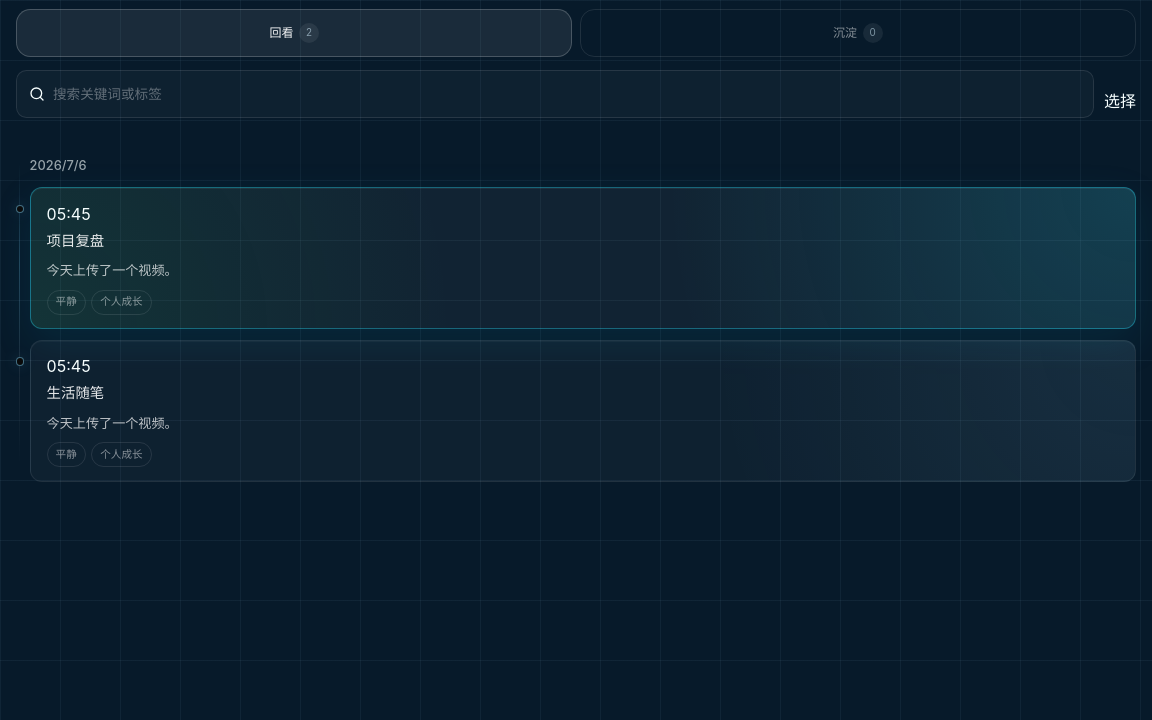
Test: PastRepository › supports bulk deleting the current search result and explains retained understanding
Type "项目" into the search field named "搜索记录" at (567, 94), box [53,84,1081,105]
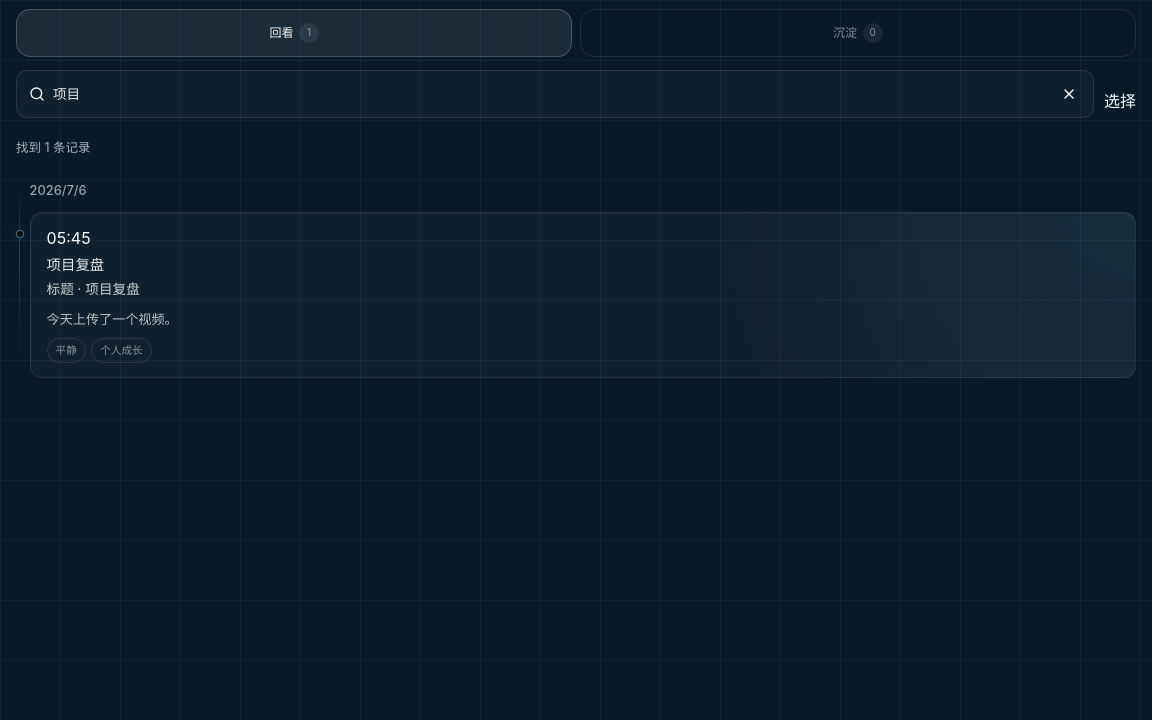
Click the button "选择" at (1120, 101), box [1104,70,1136,132]
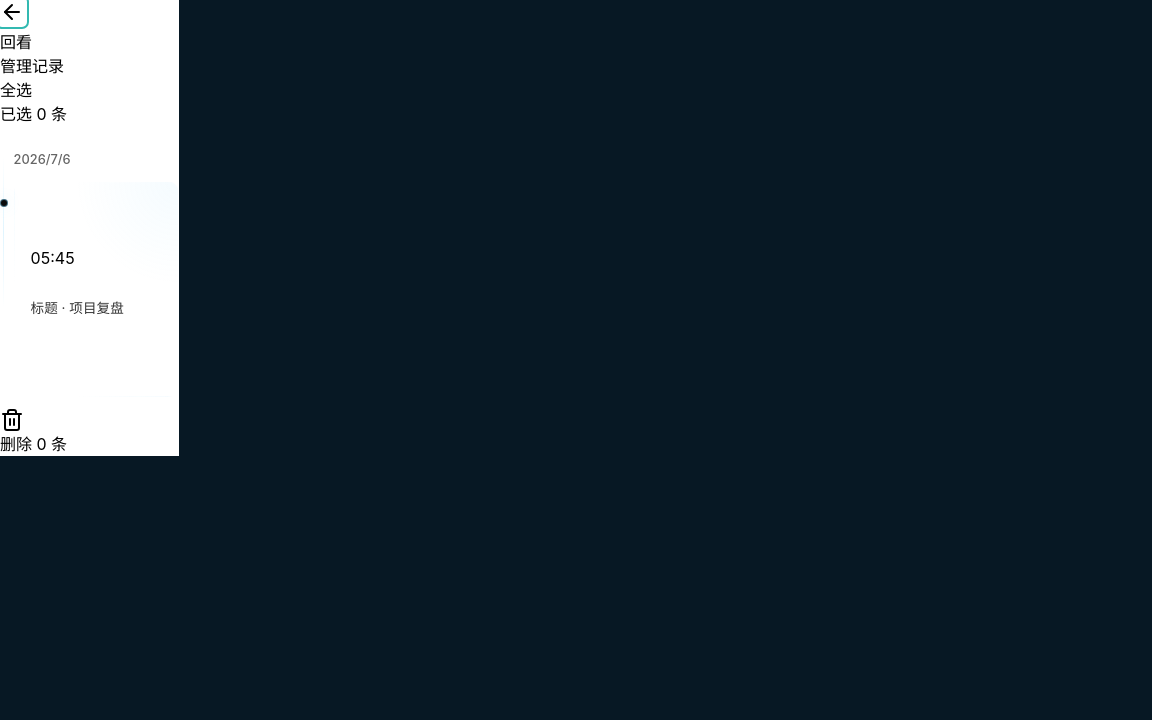
Click the button "全选" at (16, 90), box [0,78,32,102]
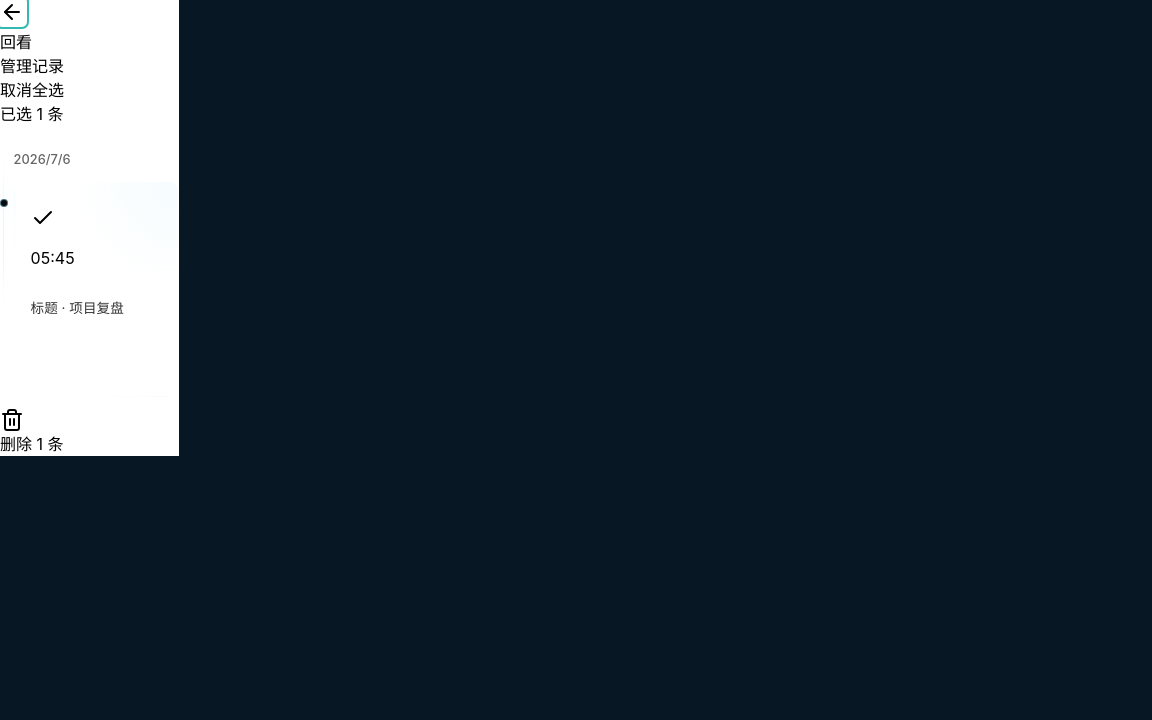
Click the button "删除 1 条" at (32, 432), box [0,408,64,456]
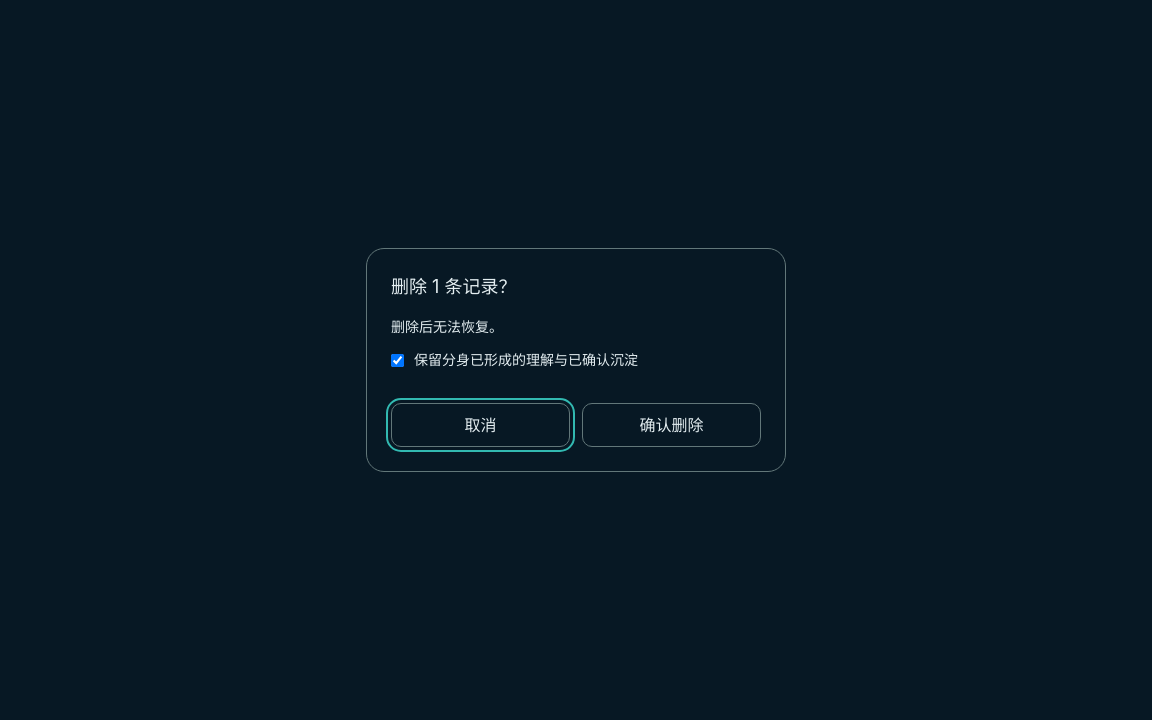
Now the checkbox labelled "保留分身已形成的理解与已确认沉淀" is shown, box [391,354,404,367]
Click the button "确认删除" at (672, 425), box [582,403,761,447]
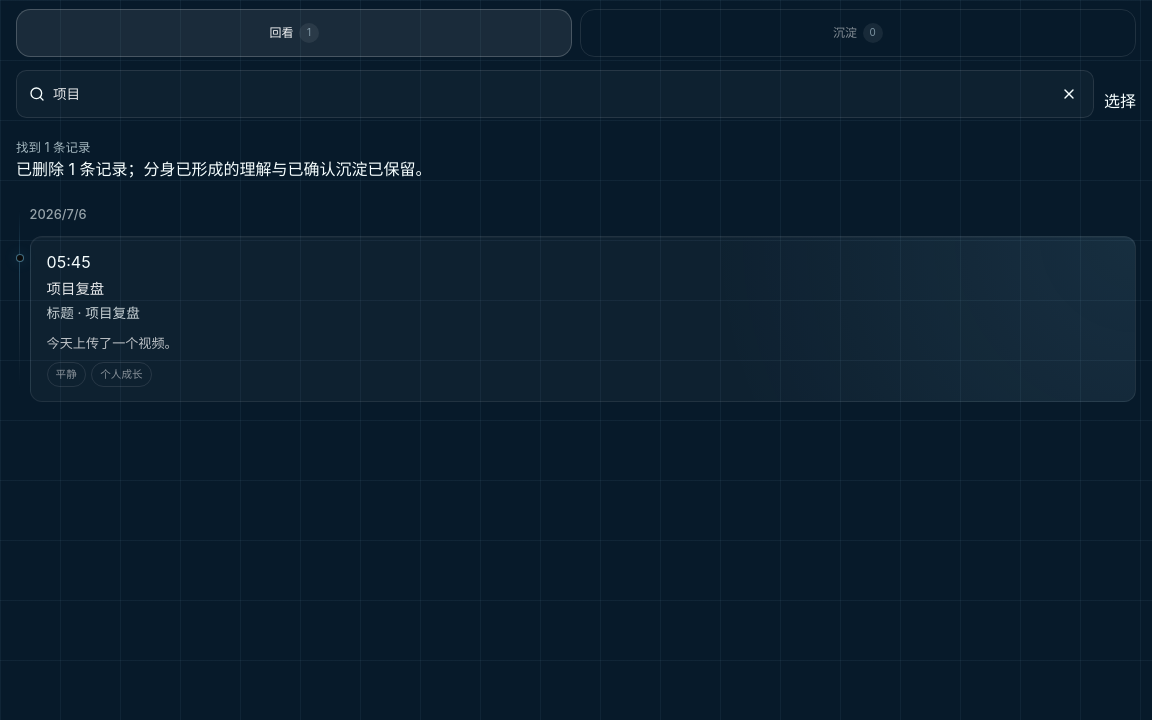
Now the text "已删除 1 条记录；分身已形成的理解与已确认沉淀已保留。" is shown, box [16,159,432,179]
